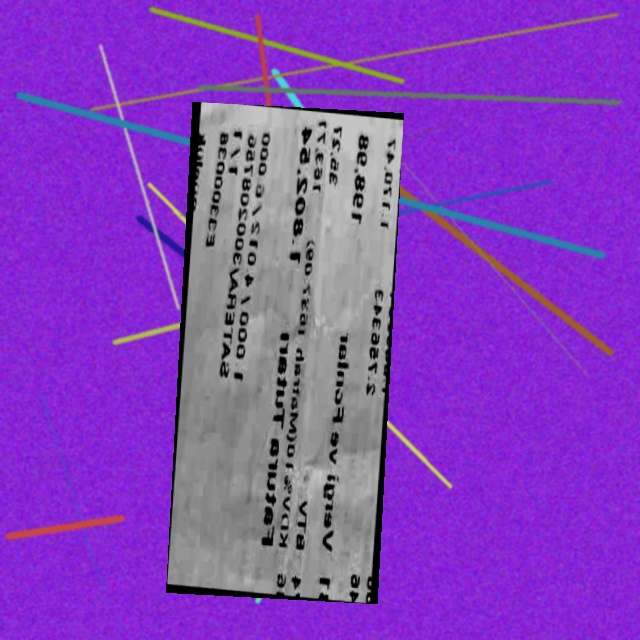electricity-bill: (165, 101, 403, 603)
